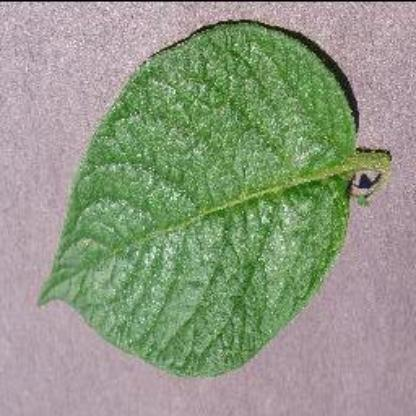Healthy-plant: (32, 19, 395, 384)
